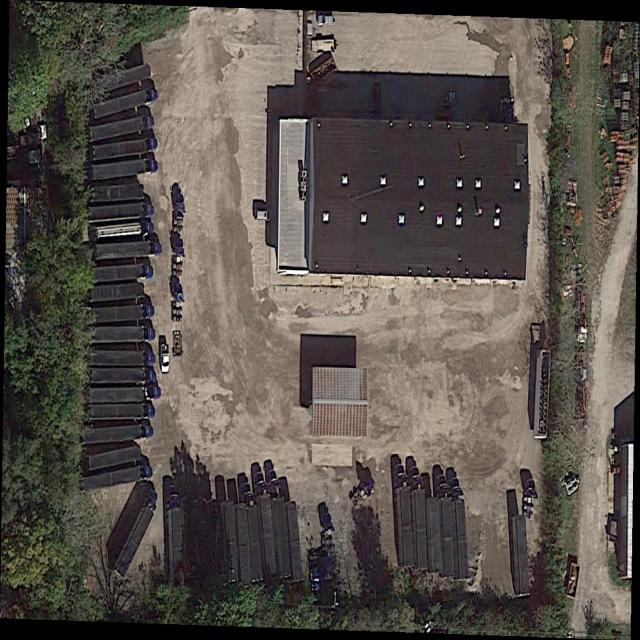large-vehicle: (113, 488, 158, 578), (267, 469, 292, 578), (448, 477, 471, 582), (254, 473, 277, 578), (435, 473, 457, 576), (88, 62, 151, 97), (242, 482, 264, 581), (392, 465, 413, 567), (81, 462, 152, 492), (94, 87, 158, 120), (408, 467, 428, 569), (75, 445, 141, 475), (165, 485, 184, 588), (219, 490, 239, 582), (80, 422, 153, 447), (90, 114, 153, 141), (285, 499, 305, 582), (86, 302, 154, 326), (92, 157, 157, 182), (234, 499, 253, 584), (92, 136, 156, 161), (96, 239, 162, 261), (82, 282, 144, 304), (90, 385, 160, 404), (92, 262, 153, 283), (95, 219, 152, 241), (89, 402, 154, 421), (91, 365, 154, 384), (89, 202, 153, 220), (92, 326, 155, 343), (90, 185, 143, 202), (91, 351, 154, 365)
small-vehicle: (14, 117, 30, 135), (161, 343, 170, 373), (255, 208, 274, 222), (318, 15, 334, 26), (307, 19, 313, 39)
